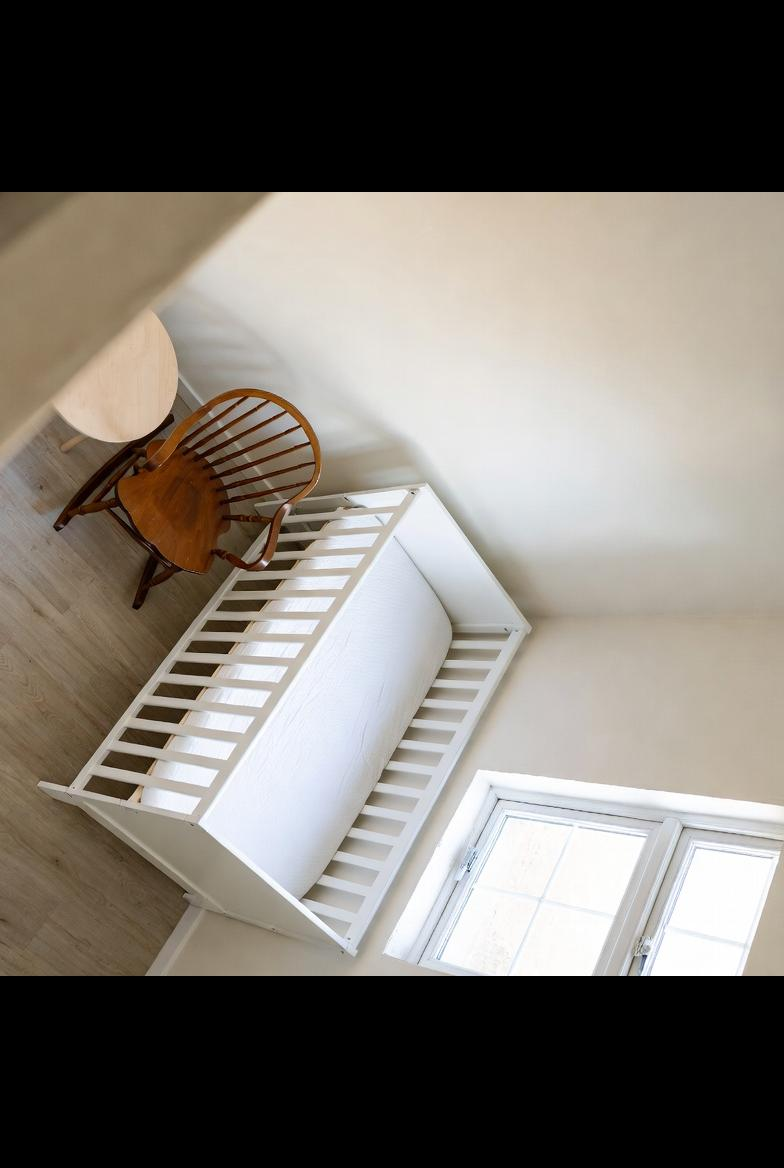crib: (37, 479, 554, 957)
